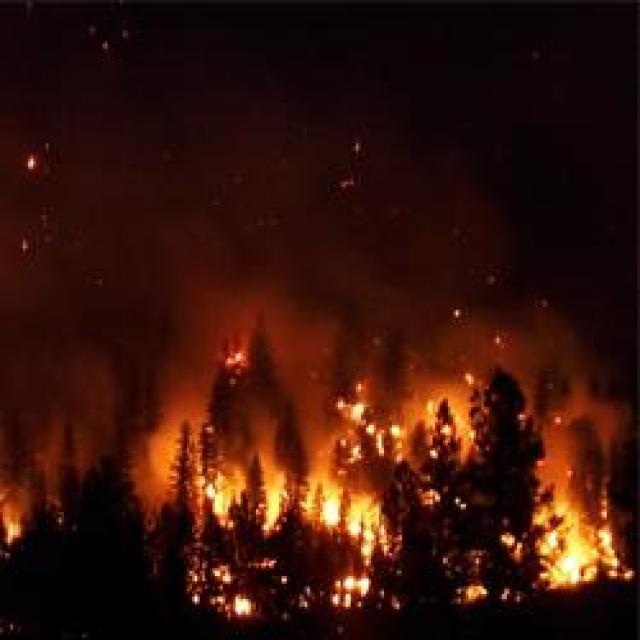Fire: (538, 511, 604, 578), (318, 496, 379, 540), (207, 476, 230, 525), (326, 579, 366, 603), (264, 488, 278, 540)
